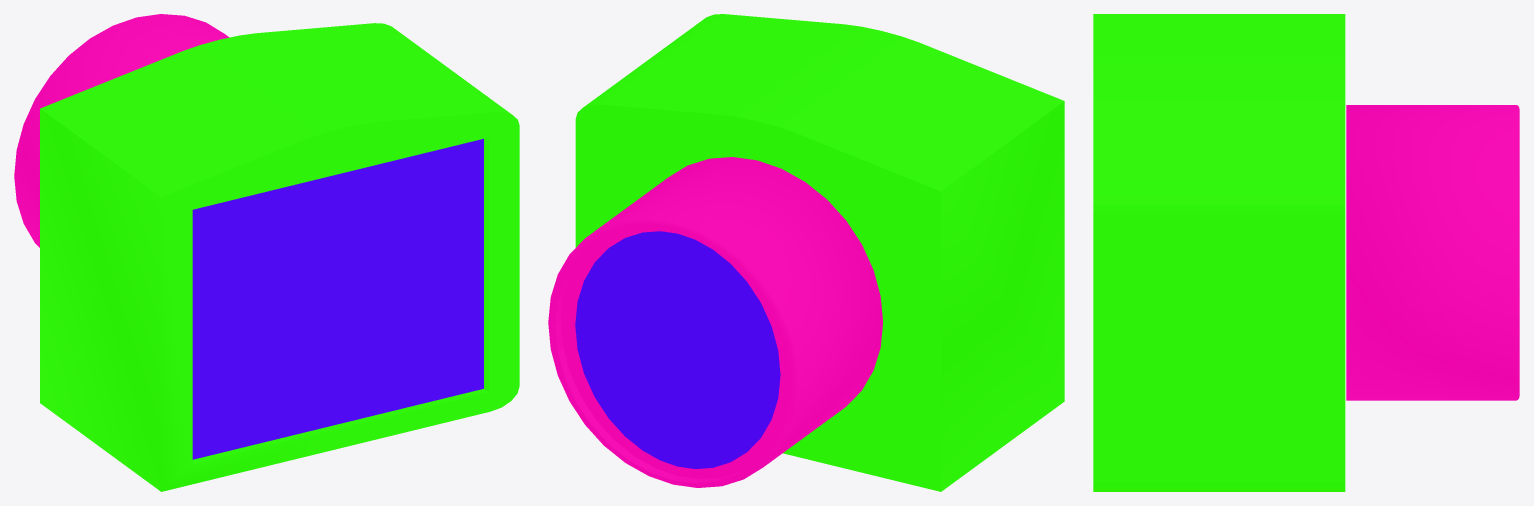
File: crude_camera.gltf
The picture shows the model from 3 angles, left to right: view 1: azimuth 30°, elevation 25°; view 2: azimuth 150°, elevation 25°; view 3: azimuth 270°, elevation 25°; orthographic projection. The views are drawn at different scales.
Parts seen in each view (by area): view 1: CAMERA.001; view 2: CAMERA.001; view 3: CAMERA.001.
Boxes of the visible parts, box(x1,y1,x2,y2) form: CAMERA.001: box(14, 14, 519, 491); CAMERA.001: box(548, 14, 1064, 491); CAMERA.001: box(1093, 14, 1519, 491).
Size of the model in its own units: 2.44 by 2.08 by 2.41.
